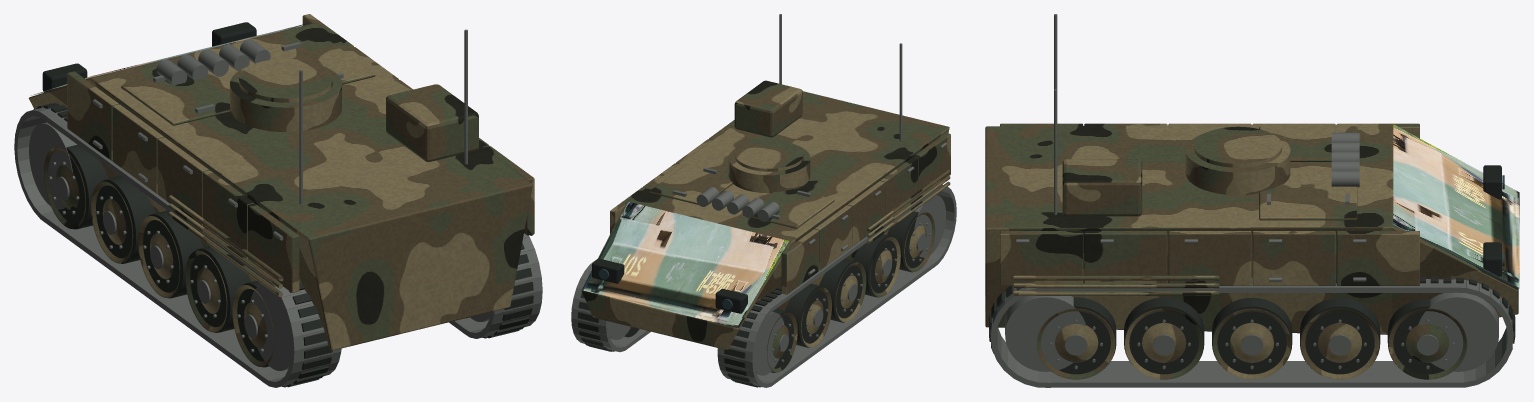
Rendered from k216-referenced-v2.glb.
3 renders of one model, left to right at view 1: azimuth 30°, elevation 25°; view 2: azimuth 150°, elevation 25°; view 3: azimuth 270°, elevation 25°, orthographic. The views are drawn at different scales.
Visible parts, largest first — view 1: Hull_Authored Korean camouflage, Track_-1_Exposed steel, Track_-1_Rubber, Track_-1_Authored Korean camouflage, Hull_Exposed steel, Track_1_Exposed steel, Hull_Recess, Track_1_Rubber, Hull_K216 photo glacis photo material; view 2: Hull_Authored Korean camouflage, Hull_K216 photo glacis photo material, Track_-1_Exposed steel, Track_-1_Rubber, Track_-1_Authored Korean camouflage, Hull_Exposed steel, Track_1_Exposed steel, Hull_Recess, Track_1_Rubber; view 3: Hull_Authored Korean camouflage, Track_1_Exposed steel, Track_1_Rubber, Hull_K216 photo glacis photo material, Track_1_Authored Korean camouflage, Hull_Exposed steel, Hull_Recess.
Boxes of the visible parts, x1,y1,x2,y2 form: Hull_Authored Korean camouflage: (28, 14, 534, 350); Track_-1_Exposed steel: (14, 107, 341, 387); Track_-1_Rubber: (33, 103, 332, 387); Track_-1_Authored Korean camouflage: (44, 147, 274, 366); Hull_Exposed steel: (92, 29, 467, 281); Track_1_Exposed steel: (449, 233, 542, 338); Hull_Recess: (42, 22, 256, 92); Track_1_Rubber: (466, 243, 533, 338); Hull_K216 photo glacis photo material: (31, 22, 310, 95); Hull_Authored Korean camouflage: (581, 80, 950, 349); Hull_K216 photo glacis photo material: (582, 201, 788, 327); Track_-1_Exposed steel: (717, 185, 956, 387); Track_-1_Rubber: (724, 184, 942, 387); Track_-1_Authored Korean camouflage: (767, 212, 935, 372); Hull_Exposed steel: (672, 14, 947, 275); Track_1_Exposed steel: (571, 259, 650, 352); Hull_Recess: (592, 258, 747, 313); Track_1_Rubber: (577, 292, 639, 351); Hull_Authored Korean camouflage: (985, 123, 1518, 334); Track_1_Exposed steel: (990, 277, 1513, 387); Track_1_Rubber: (989, 276, 1515, 374); Hull_K216 photo glacis photo material: (1393, 124, 1519, 288); Track_1_Authored Korean camouflage: (1037, 308, 1467, 379); Hull_Exposed steel: (1016, 14, 1366, 281); Hull_Recess: (1483, 165, 1501, 276).
Bounding box in the file's own units: 2.94 × 3.31 × 5.71.
Materials: 6 (2 with a texture image).
